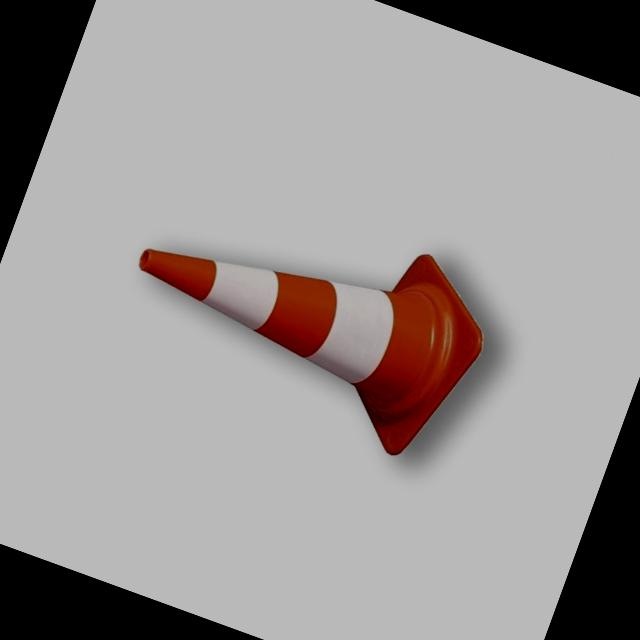cone: (68, 135, 525, 482)
